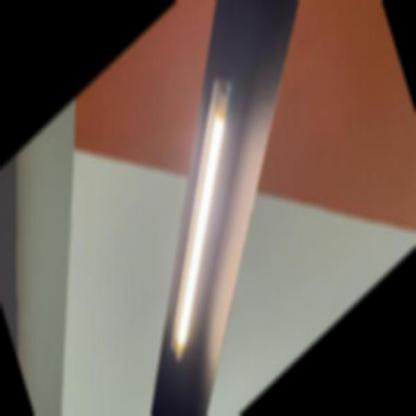light_on: (109, 54, 293, 378)
